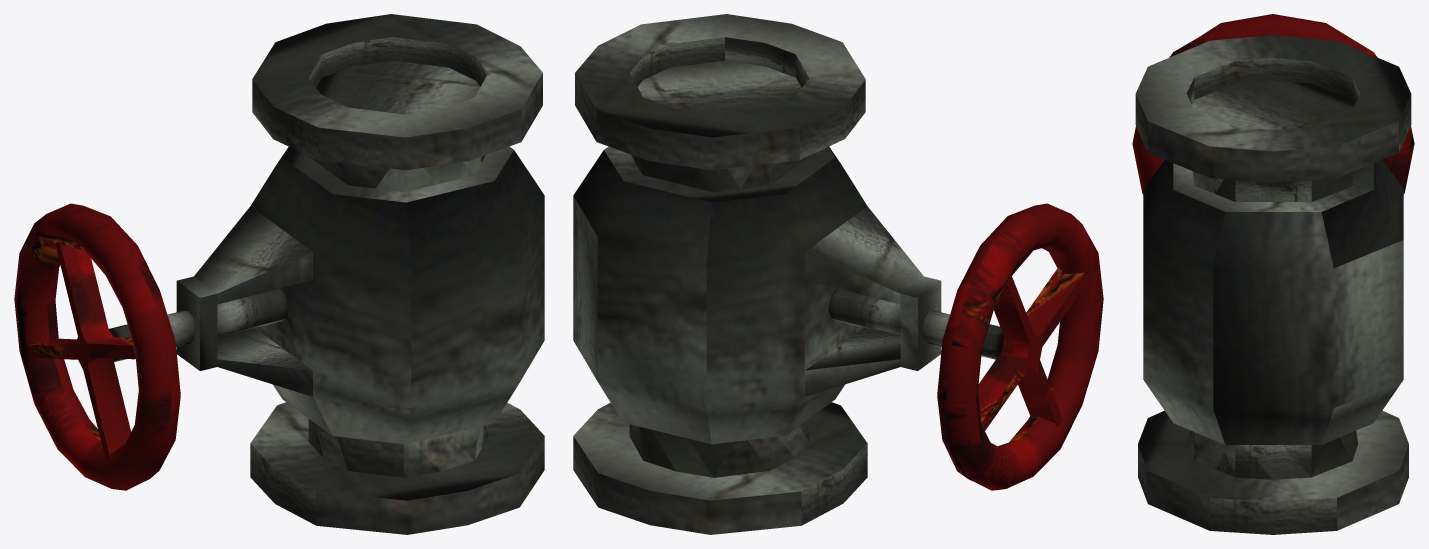
File: afsluit.obj
3 views of the same model, side by side, from view 1: azimuth 30°, elevation 25°; view 2: azimuth 150°, elevation 25°; view 3: azimuth 270°, elevation 25° (orthographic). The views are drawn at different scales.
Visible parts, largest first — view 1: Group; view 2: Group; view 3: Group.
Boxes of the visible parts, x1=… form: Group: x1=14, y1=14, x2=544, y2=534; Group: x1=573, y1=14, x2=1103, y2=534; Group: x1=1132, y1=14, x2=1414, y2=534.
Size of the model in its own units: 69.12 by 59.6 by 39.73.
